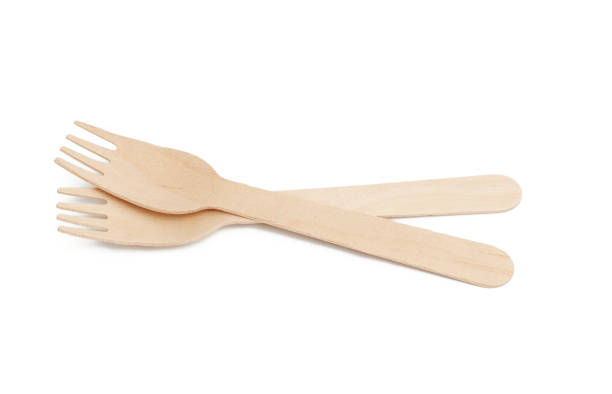Wooden Utensils: (44, 114, 527, 302)
